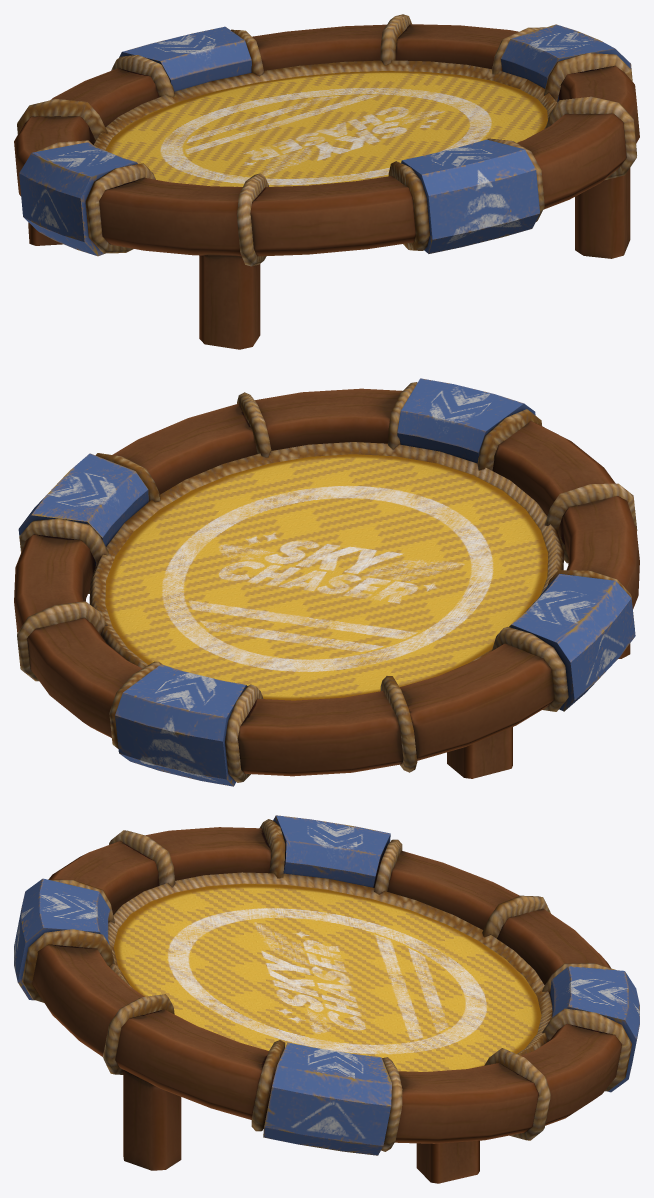
Rendered from trampoline.fbx.
3 views of the same model, one above another, from view 1: azimuth 30°, elevation 25°; view 2: azimuth 150°, elevation 25°; view 3: azimuth 270°, elevation 25° (orthographic). The views are drawn at different scales.
Parts seen in each view (by area): view 1: ring.001, canvas, chunks, ropes.001, legs; view 2: canvas, ring.001, chunks, ropes.001, legs; view 3: canvas, ring.001, chunks, ropes.001, legs.
Boxes of the visible parts, x1,y1,x2,y2 form: ring.001: (14,24,639,256); canvas: (93,60,557,186); chunks: (19,24,632,256); ropes.001: (17,14,636,266); legs: (28,168,630,349); canvas: (89,442,564,700); ring.001: (14,388,639,776); chunks: (18,378,635,786); ropes.001: (17,382,637,782); legs: (447,643,630,778); canvas: (108,872,552,1071); ring.001: (32,827,621,1143); chunks: (14,815,639,1155); ropes.001: (22,819,631,1151); legs: (123,1070,479,1183).
Size of what is drawn, in the model's own units: 3.4 by 3.39 by 0.9972.
